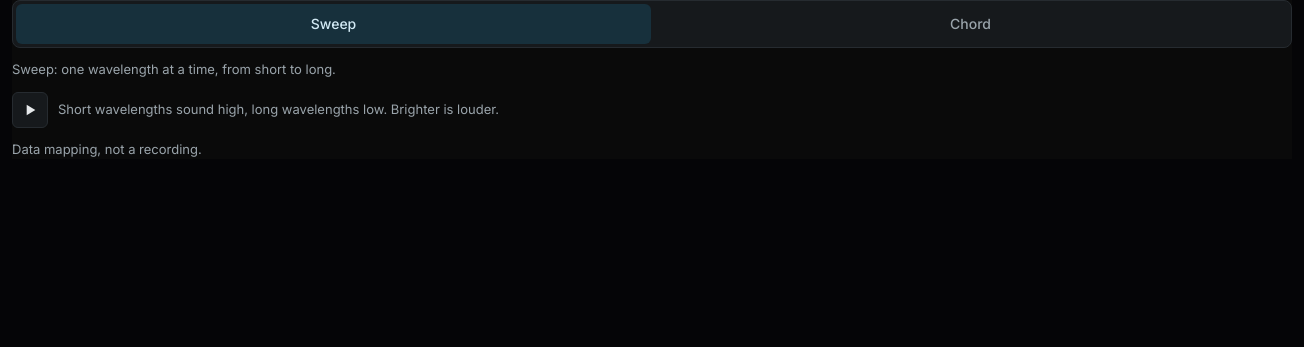
Test: chord strip and copy (code review, Q-446) › silent notes are short empty boxes; A/B changes are marked; the summary is visible
What coordinates should you click on to do the following:
click the button "Chord"
I would click on:
 (970, 24)
Its box is [653, 4, 1288, 44].
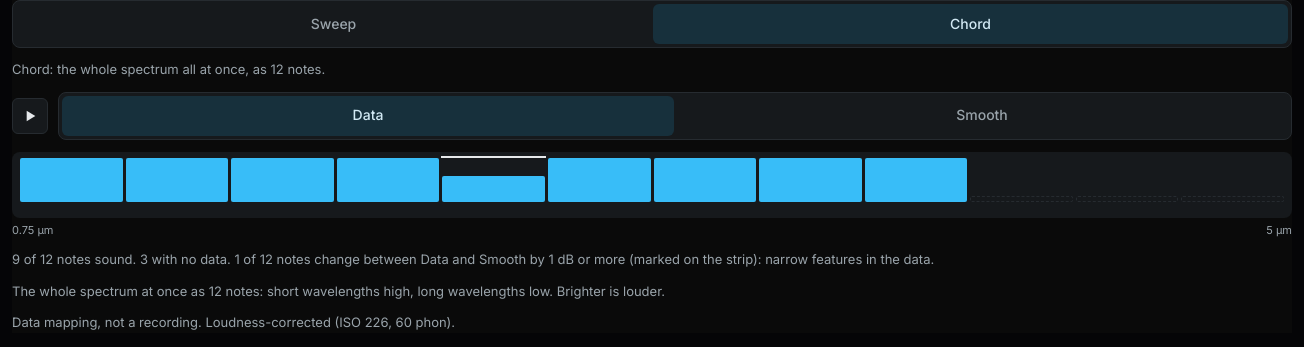
Expected: the element with test id "sky-chord-ab-mark" is shown, [441, 156, 546, 158]
